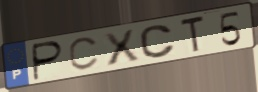5: (218, 9, 244, 47)
C: (138, 23, 178, 60), (67, 35, 101, 72)
P: (32, 40, 66, 83)
T: (179, 14, 207, 56)
X: (101, 27, 142, 68)
